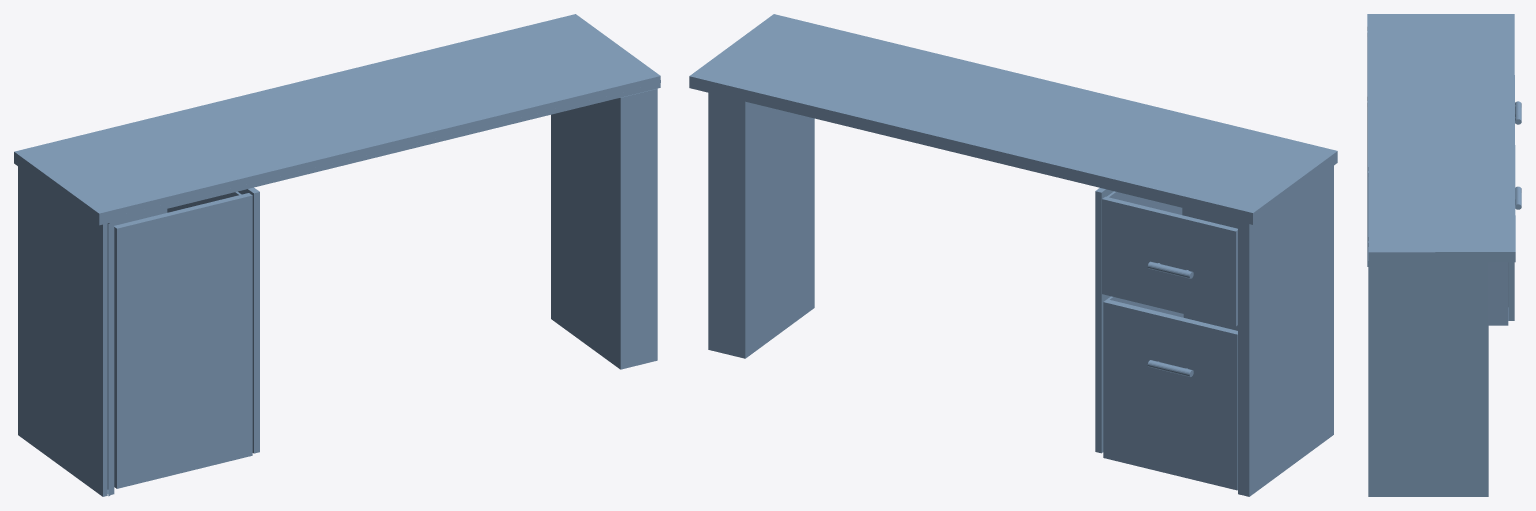
File: Escritorio.obj
The picture shows the model from 3 angles, left to right: view 1: azimuth 30°, elevation 25°; view 2: azimuth 150°, elevation 25°; view 3: azimuth 270°, elevation 25°; orthographic projection. The views are drawn at different scales.
Visible parts, largest first — view 1: Escritorio:pasted__pCube1group1; view 2: Escritorio:pasted__pCube1group1; view 3: Escritorio:pasted__pCube1group1.
Boxes of the visible parts, x1=… form: Escritorio:pasted__pCube1group1: x1=14, y1=14, x2=660, y2=496; Escritorio:pasted__pCube1group1: x1=689, y1=14, x2=1337, y2=496; Escritorio:pasted__pCube1group1: x1=1367, y1=14, x2=1521, y2=496.
Size of the model in its own units: 2.62 by 1.26 by 0.7223.
1 material, 1 textured.
